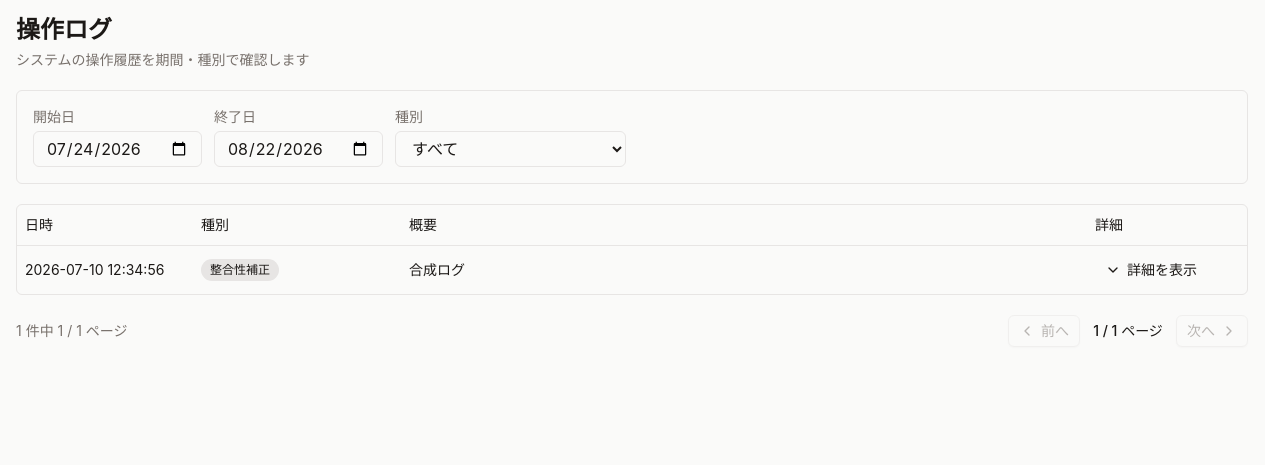
it: UI-11c REQ-902 › test_operation_logs_req902_t12_degrades_malformed_adjustments_adjustments missing
Click the button "詳細を表示" at (1151, 270), box x1=1095 y1=254 x2=1207 y2=286
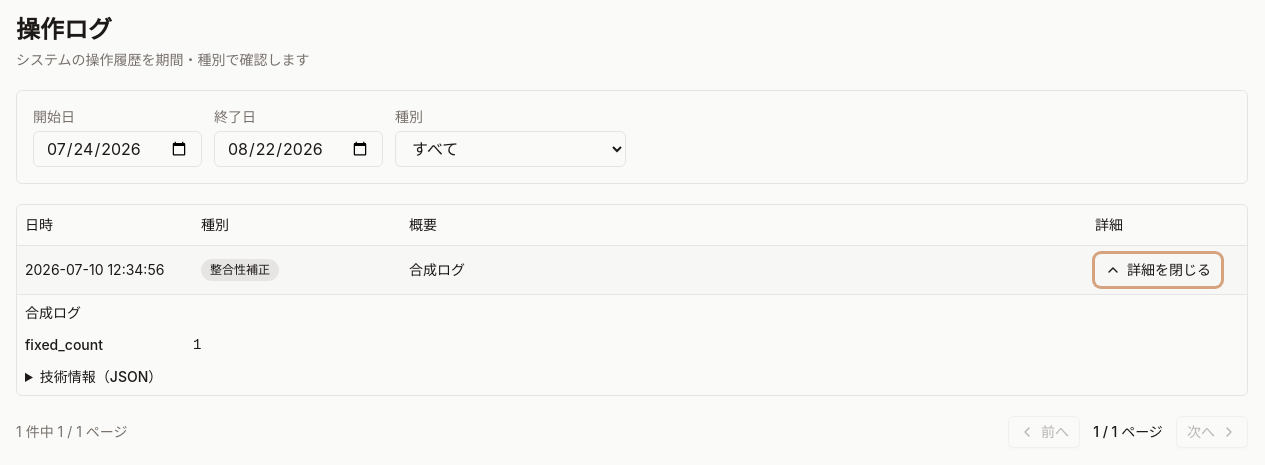
Result: the heading "技術情報（JSON）" is shown at x1=40 y1=368 x2=162 y2=384
Result: the element named "ログ詳細の要約" is shown at x1=25 y1=334 x2=1239 y2=354
